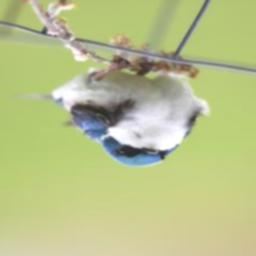Swallow: (8, 55, 212, 168)
